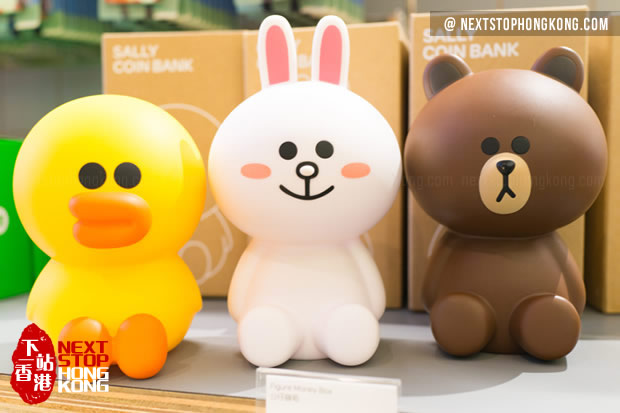line_brown: (396, 41, 610, 239)
